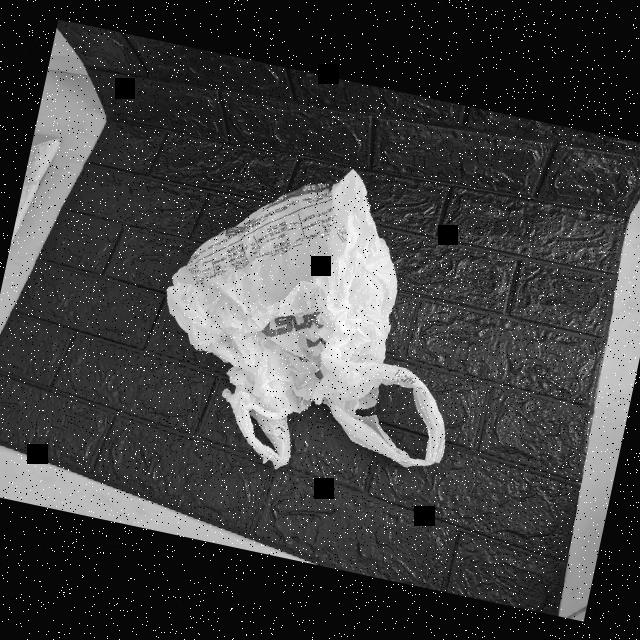plastic_bag: (121, 124, 512, 519)
